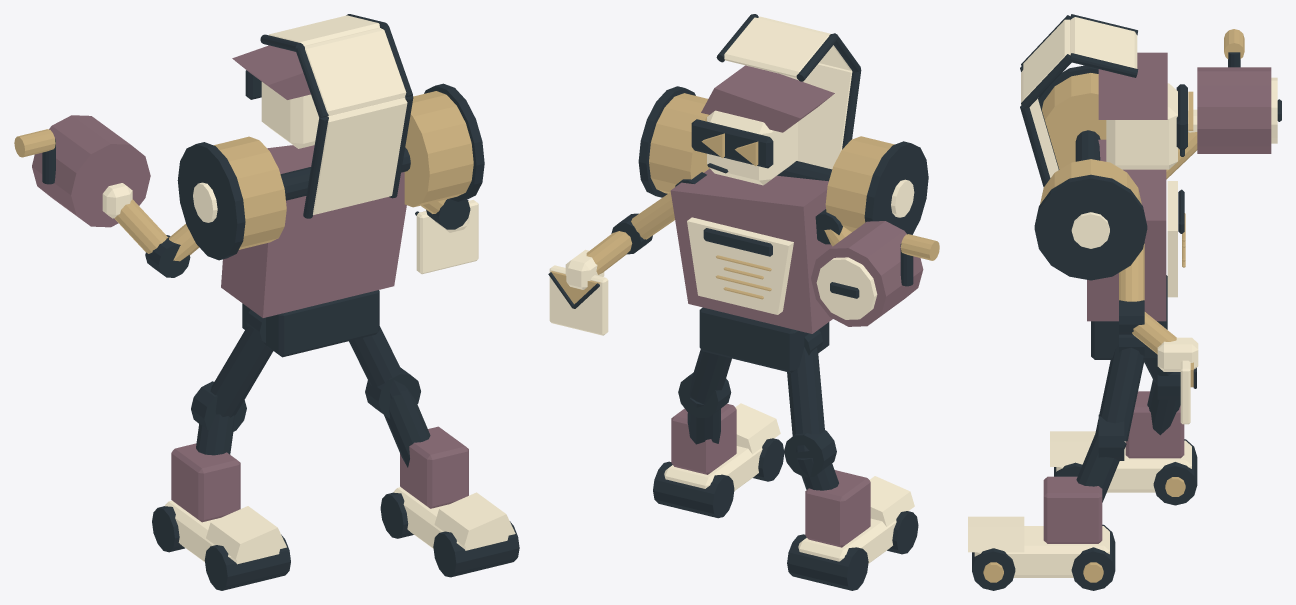
The picture shows the model from 3 angles, left to right: view 1: azimuth 30°, elevation 25°; view 2: azimuth 150°, elevation 25°; view 3: azimuth 270°, elevation 25°; orthographic projection. The views are drawn at different scales.
Parts seen in each view (by area): view 1: receipt_clerk_body, return_shuttle, paper_return_strip_0, R_guide_drum, paper_return_strip_1, L_drum_cap, hip_carriage, L_guide_drum, L_boot_cuff, R_boot_cuff, return_to_sender_sheet, L_thigh (+26 smaller); view 2: receipt_clerk_body, front_bib, swept_hair, return_shuttle, hip_carriage, R_guide_drum, L_boot_cuff, paper_return_strip_0, paper_return_strip_2, L_drum_cap, L_guide_drum, clerk_head (+31 smaller); view 3: R_drum_cap, return_shuttle, receipt_clerk_body, swept_hair, clerk_head, L_guide_drum, R_boot_cuff, R_shoe, R_thigh, paper_return_strip_2, L_boot_cuff, R_reverse_toe (+29 smaller).
Part boxes in pixels (left/top/right/bottom): receipt_clerk_body: left=221, top=145, right=406, bottom=317; return_shuttle: left=32, top=115, right=150, bottom=227; paper_return_strip_0: left=313, top=97, right=407, bottom=214; R_guide_drum: left=404, top=91, right=473, bottom=207; paper_return_strip_1: left=304, top=28, right=406, bottom=115; L_drum_cap: left=177, top=142, right=245, bottom=260; hip_carriage: left=242, top=290, right=379, bottom=357; L_guide_drum: left=214, top=136, right=286, bottom=249; L_boot_cuff: left=171, top=443, right=240, bottom=522; R_boot_cuff: left=400, top=426, right=468, bottom=508; return_to_sender_sheet: left=416, top=199, right=478, bottom=274; L_thigh: left=210, top=326, right=273, bottom=417; receipt_clerk_body: left=670, top=168, right=832, bottom=333; front_bib: left=687, top=217, right=793, bottom=314; swept_hair: left=701, top=65, right=834, bottom=132; return_shuttle: left=811, top=221, right=923, bottom=326; hip_carriage: left=699, top=307, right=829, bottom=372; R_guide_drum: left=649, top=93, right=709, bottom=193; L_boot_cuff: left=805, top=470, right=870, bottom=547; paper_return_strip_0: left=781, top=63, right=852, bottom=169; paper_return_strip_2: left=724, top=17, right=828, bottom=77; L_drum_cap: left=864, top=141, right=928, bottom=234; L_guide_drum: left=825, top=136, right=894, bottom=231; clerk_head: left=707, top=110, right=797, bottom=185; R_drum_cap: left=1034, top=174, right=1147, bottom=280; return_shuttle: left=1197, top=67, right=1271, bottom=153; receipt_clerk_body: left=1087, top=139, right=1166, bottom=321; swept_hair: left=1098, top=52, right=1167, bottom=119; clerk_head: left=1106, top=83, right=1177, bottom=169; L_guide_drum: left=1042, top=73, right=1106, bottom=169; R_boot_cuff: left=1043, top=476, right=1102, bottom=543; R_shoe: left=974, top=526, right=1109, bottom=577; R_thigh: left=1095, top=344, right=1144, bottom=441; paper_return_strip_2: left=1070, top=17, right=1137, bottom=68; L_boot_cuff: left=1125, top=391, right=1184, bottom=458; R_reverse_toe: left=968, top=516, right=1024, bottom=552.
Bounding box in the file's own units: 1.84 × 2.15 × 1.23.
